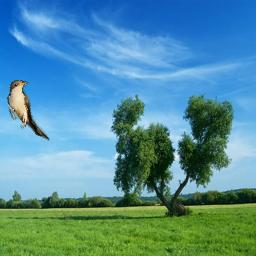Cuckoo: (7, 80, 50, 142)
